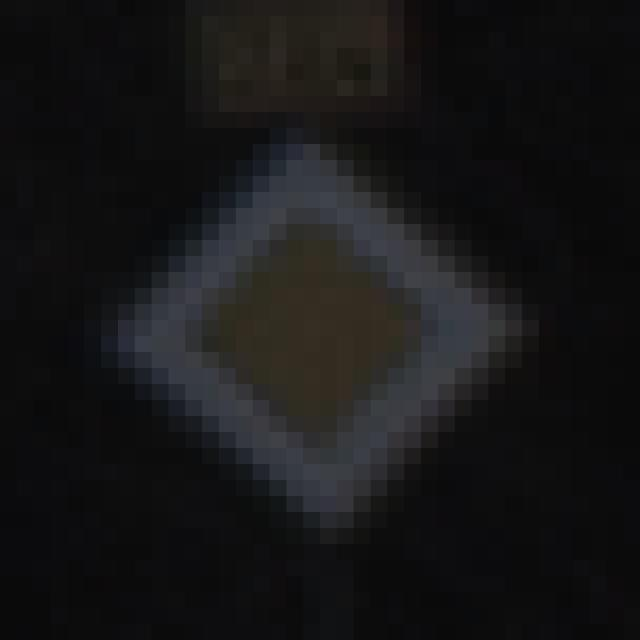Main Road: (85, 97, 557, 561)
